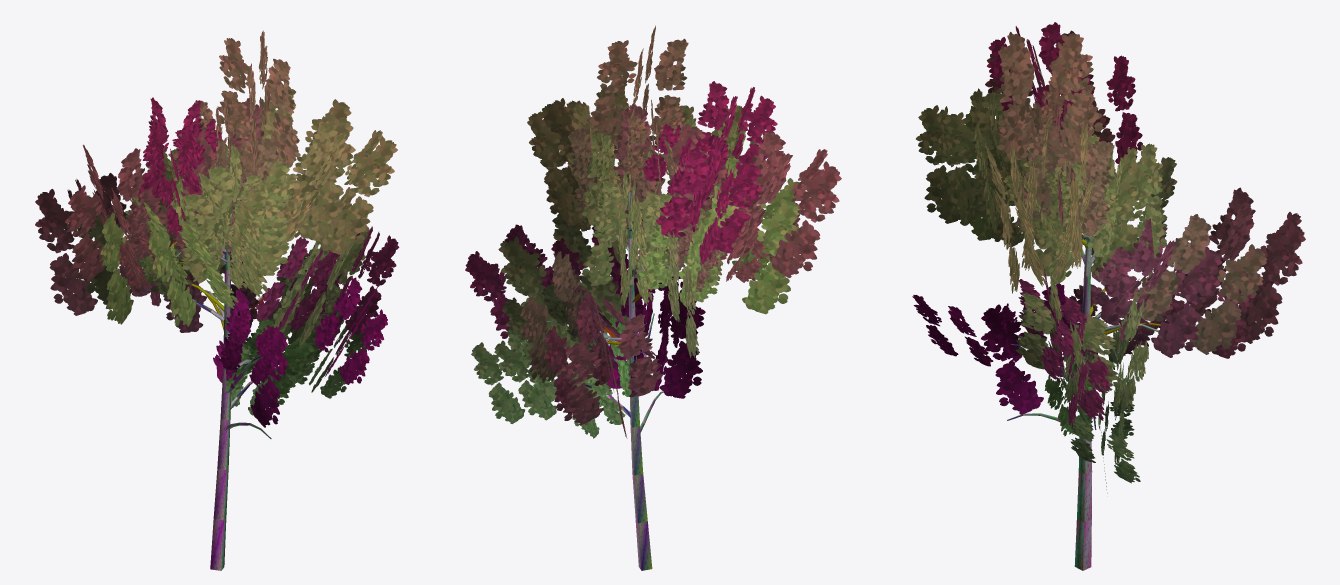
Rendered from nat_birch_b_LOD2.glb.
The picture shows the model from 3 angles, left to right: view 1: azimuth 30°, elevation 25°; view 2: azimuth 150°, elevation 25°; view 3: azimuth 270°, elevation 25°; orthographic projection. The views are drawn at different scales.
Visible parts, largest first — view 1: nat_birch_b_LOD2; view 2: nat_birch_b_LOD2; view 3: nat_birch_b_LOD2.
Part boxes in pixels (x1,y1,x2,y2): nat_birch_b_LOD2: (35,30,399,570); nat_birch_b_LOD2: (465,25,841,570); nat_birch_b_LOD2: (912,22,1305,570).
Bounding box in the file's own units: 6.56 × 8.56 × 6.17.
Materials: 2 (2 with a texture image).
